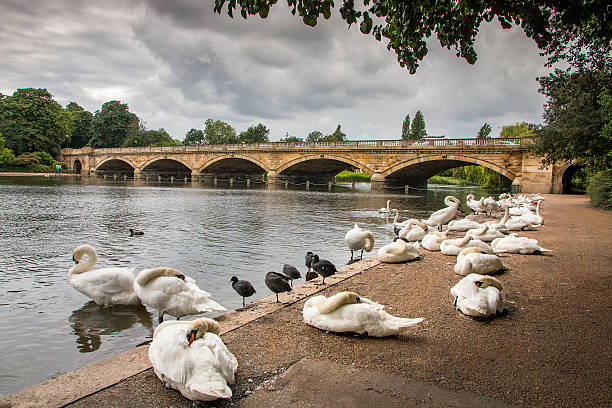goose: (136, 312, 243, 403), (296, 285, 425, 340), (61, 237, 133, 315), (135, 255, 220, 321), (447, 272, 518, 324), (342, 218, 376, 270), (376, 240, 423, 266)
